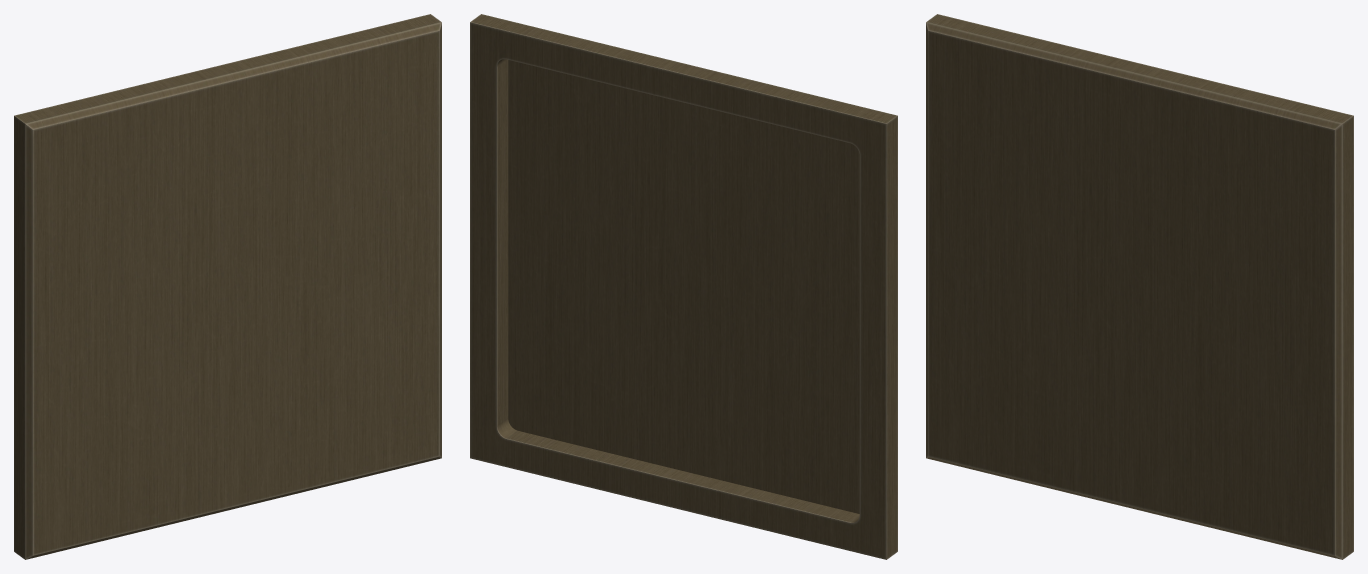
The model's file is Bronze.glb.
The picture shows the model from 3 angles, left to right: view 1: azimuth 30°, elevation 25°; view 2: azimuth 150°, elevation 25°; view 3: azimuth 330°, elevation 25°; orthographic projection.
Visible parts, largest first — view 1: 5; view 2: 5; view 3: 5.
Part boxes in pixels (x1,y1,x2,y2): 5: (14,14,441,559); 5: (470,14,897,559); 5: (926,14,1353,559).
Size of the model in its own units: 0.085 by 0.085 by 0.005.
1 material, 1 textured.
